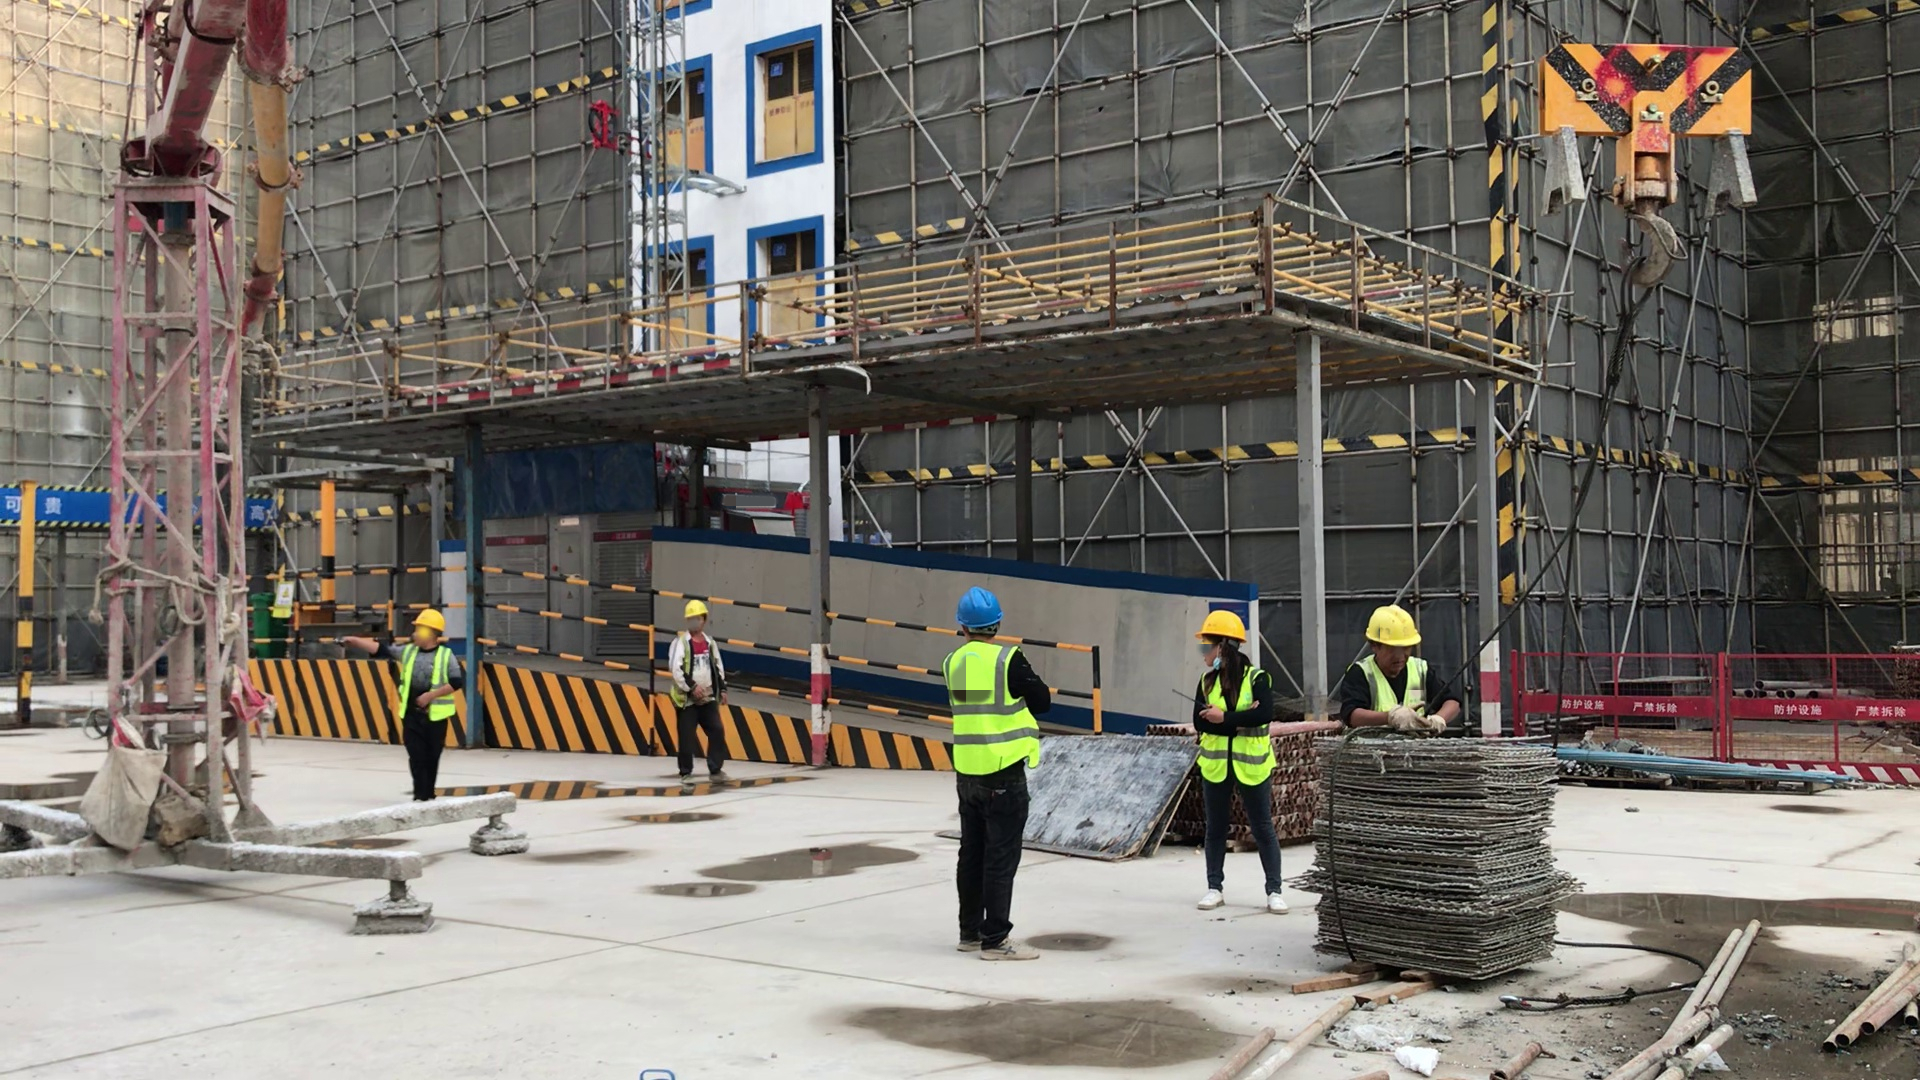fence: (1511, 638, 1920, 789)
helmet: (1356, 605, 1423, 650), (954, 585, 1010, 631), (1188, 611, 1253, 643), (410, 604, 446, 634), (682, 599, 710, 619)
hook: (1522, 42, 1771, 233)
person: (921, 583, 1063, 971), (1177, 608, 1308, 922), (375, 597, 493, 805), (1325, 600, 1475, 739), (645, 595, 741, 790)
vest: (939, 648, 1042, 776), (1193, 673, 1282, 782), (1351, 662, 1434, 724), (394, 645, 455, 721), (670, 624, 727, 706)
